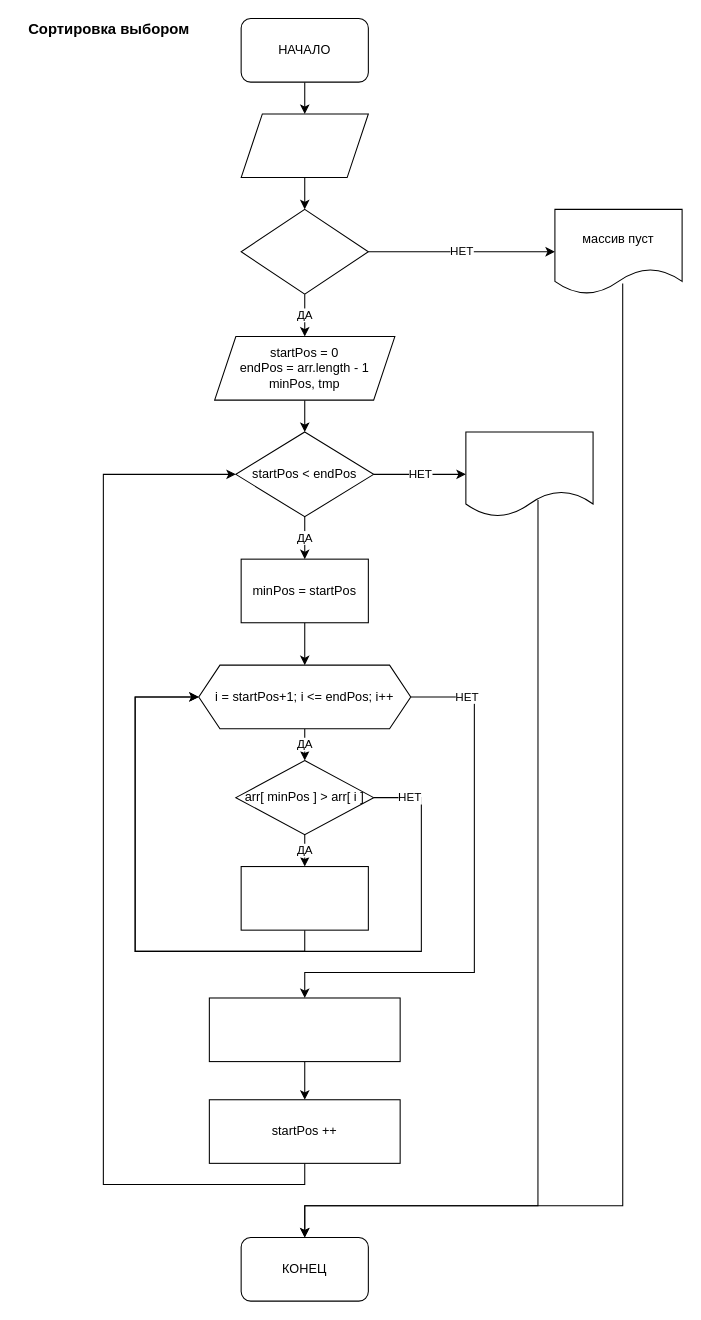
Image size: 701x1320. Some labels were removed from this diagram. The shapes that lost their labels are listed below. From the top down, each one's centre as x and y in pixels, then its label:
At (x=304, y=145): "arr[ ]".
At (x=304, y=251): "arr.length > 0".
At (x=529, y=474): "arr [ ]".
At (x=304, y=897): "minPos = i".
At (x=304, y=1029): "tmp = arr [ minPos ] arr[ minPos ] = arr[ startPos ] arr[ startPos ] = tmp".
